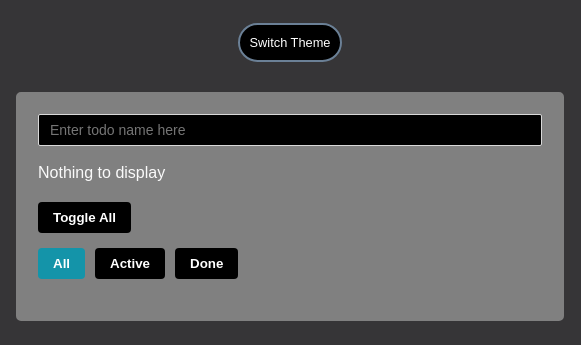
it: remove todo
Type "todo1" into the field with placeholder "Enter todo name here" at {"x": 290, "y": 130}, box [38, 114, 542, 146]
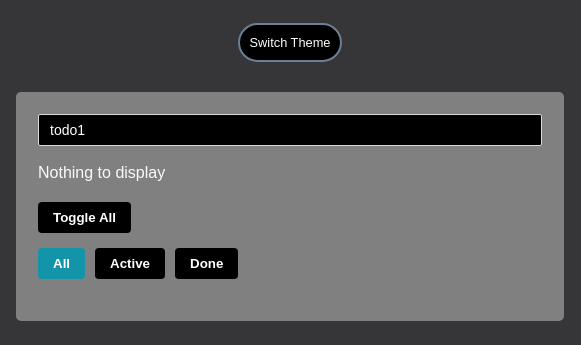
Press Enter in the field with placeholder "Enter todo name here", box [38, 114, 542, 146]
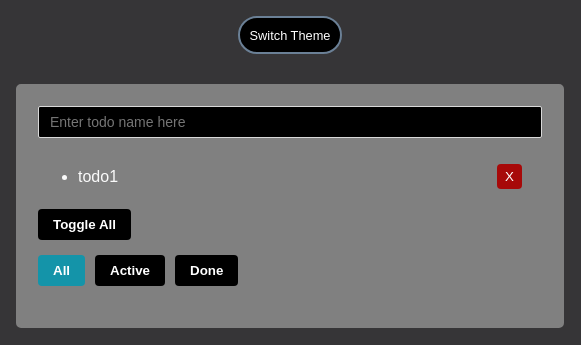
Click the button "X" at {"x": 510, "y": 177}, box [497, 164, 522, 189]
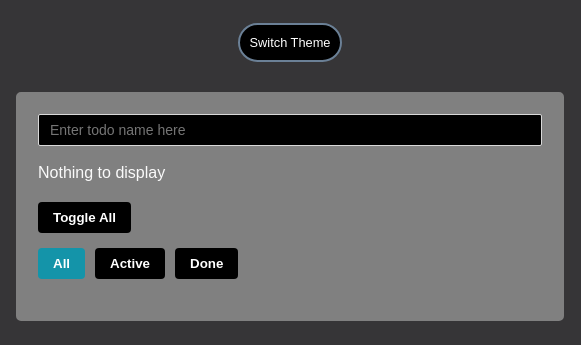
Expected: the text "Nothing to display" is shown, [38, 164, 165, 181]
